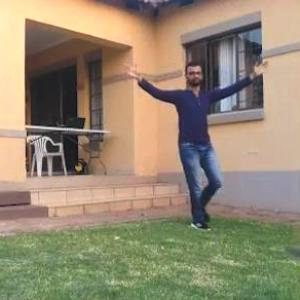takeoff: (126, 63, 274, 228)
